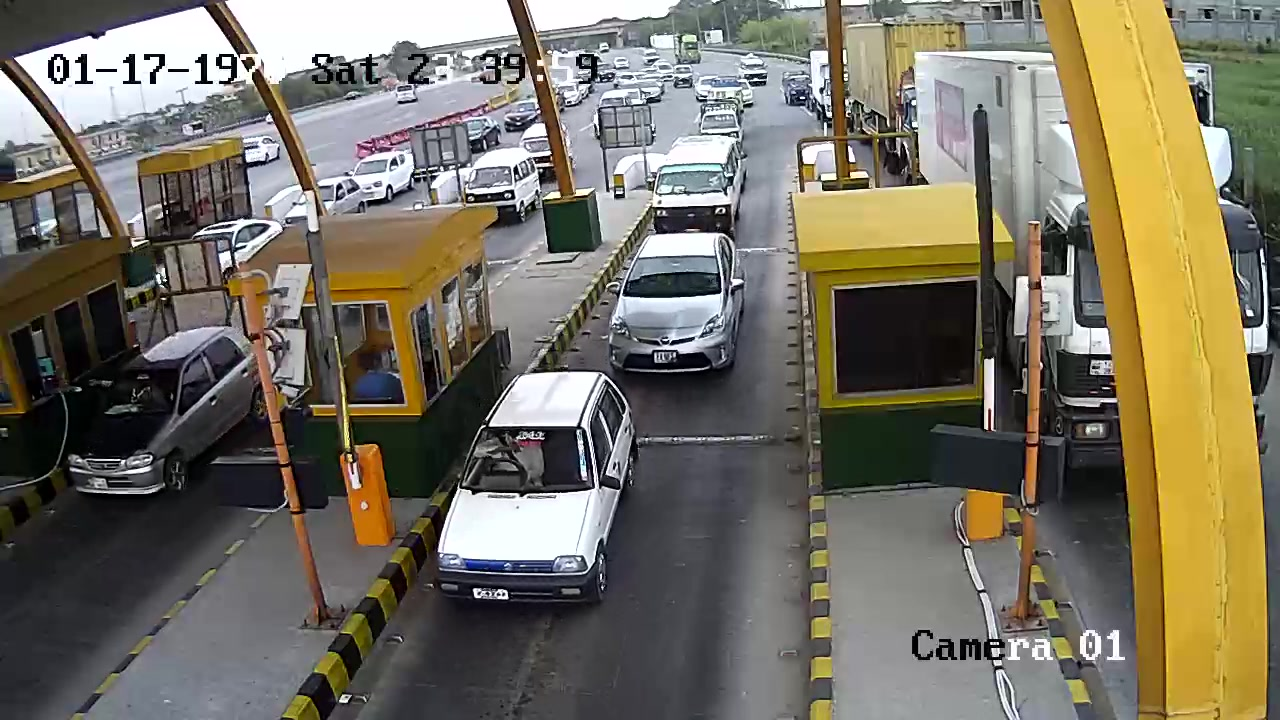F1: (427, 373, 638, 622), (601, 228, 761, 371)
